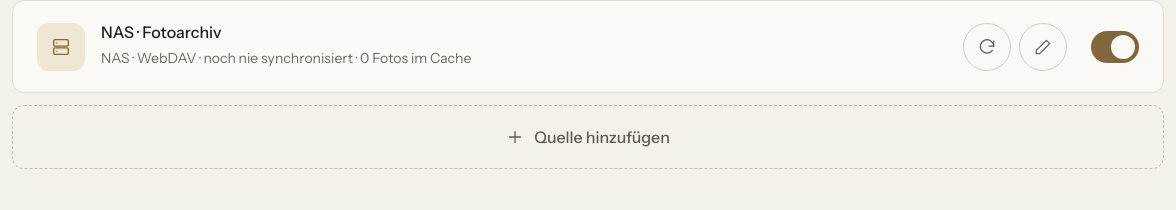
Test: SourcesPane › meldet einen gescheiterten Abgleich als Fehler
This screenshot has width=1176, height=210.
Click the button with class "action-sync" at (987, 47), box [963,23,1011,71]
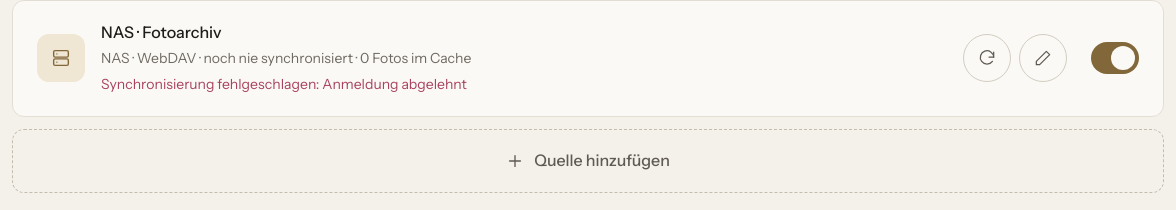
expect the message with class "error" shows "Anmeldung abgelehnt": met, box [101,76,467,94]
